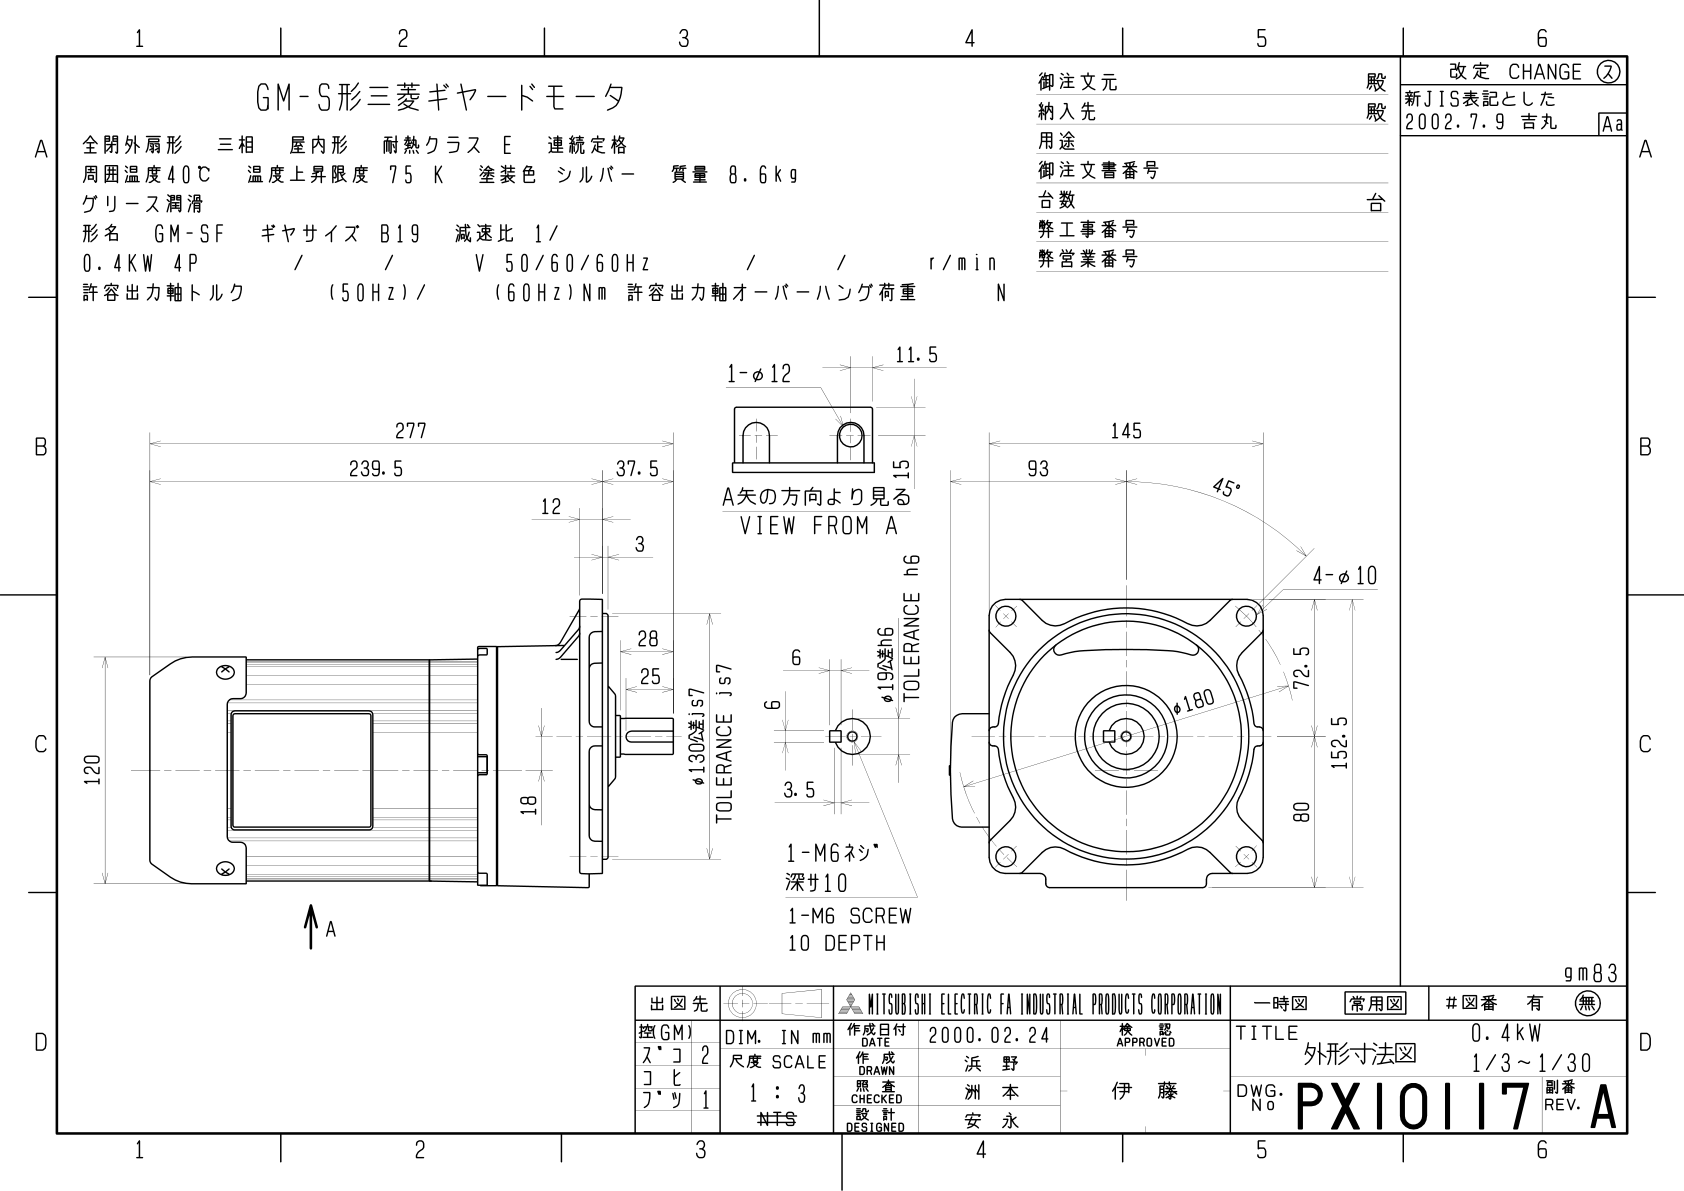GM_S_屋内＿三相_フランジ: (70, 322, 1397, 963)
